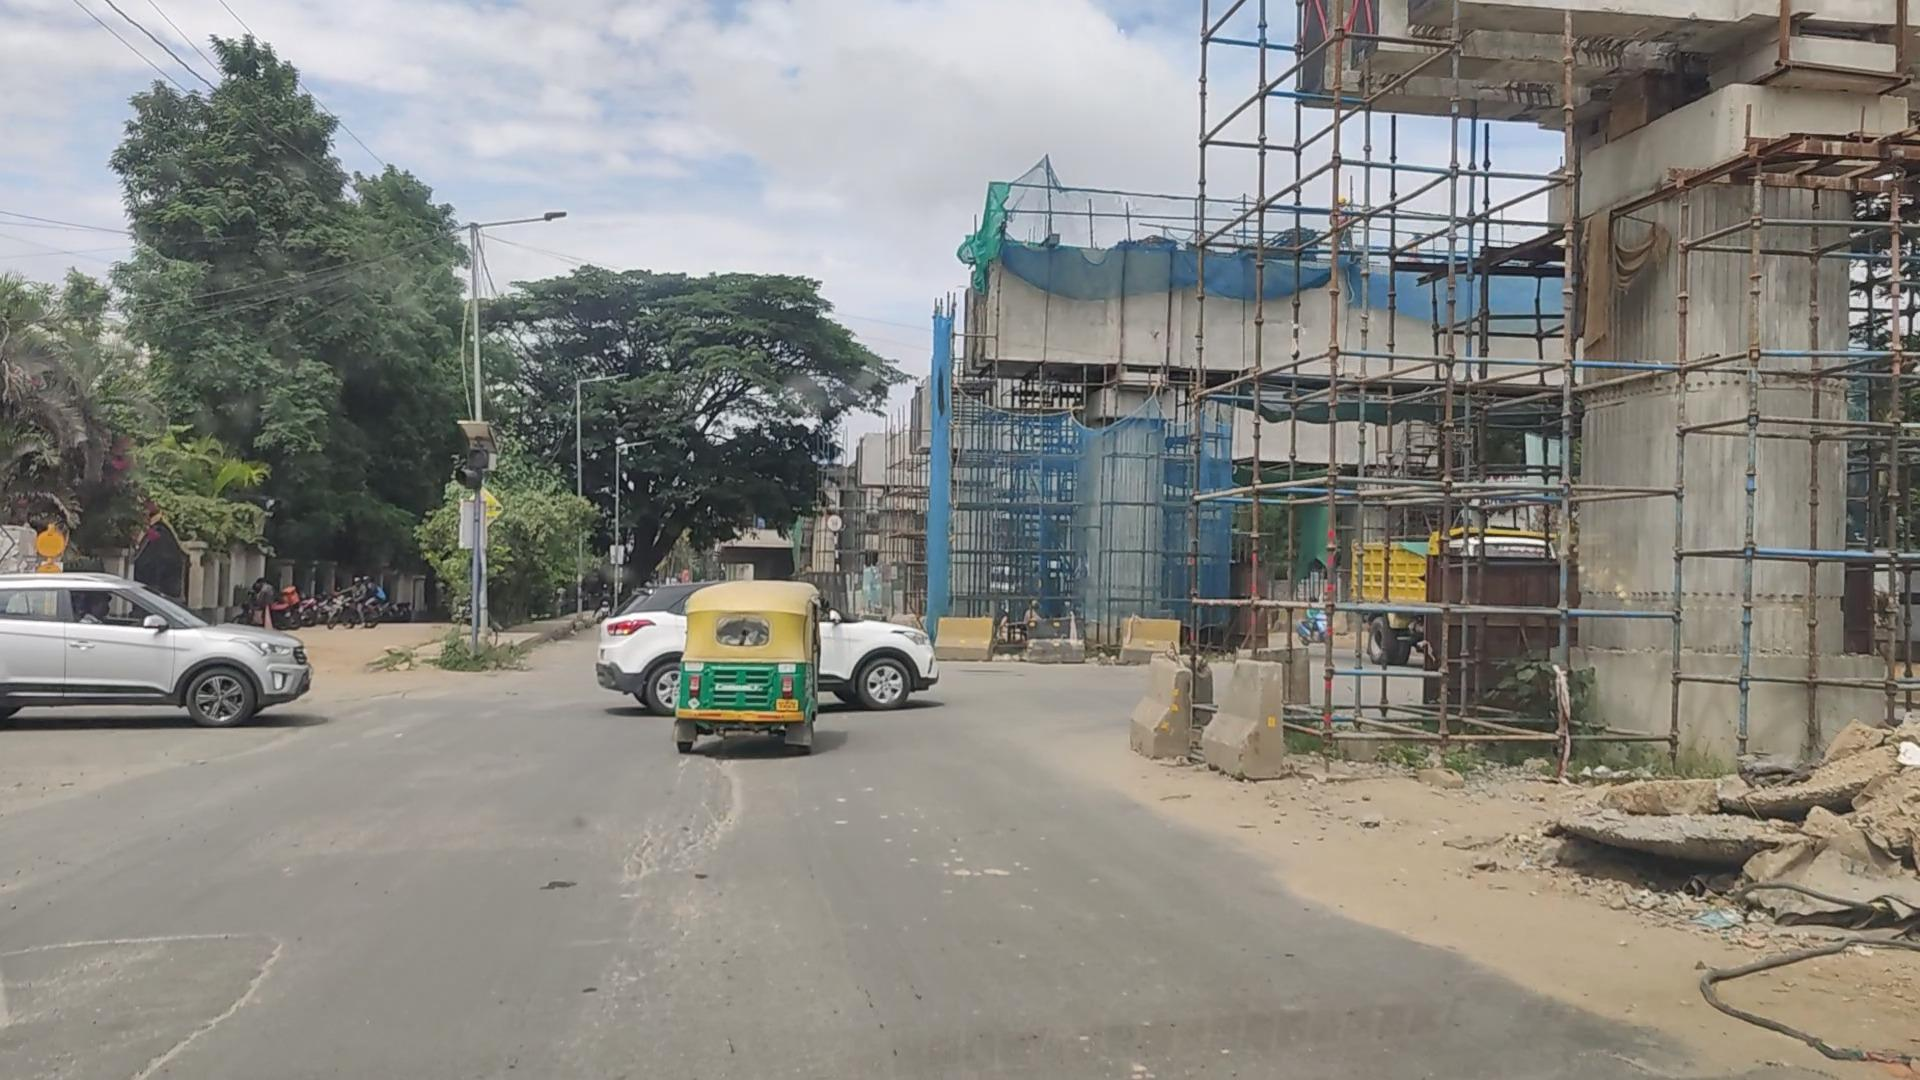LMV: (0, 599, 286, 708), (675, 594, 816, 751)
RoadDamages: (99, 887, 359, 1075), (629, 748, 760, 854)
